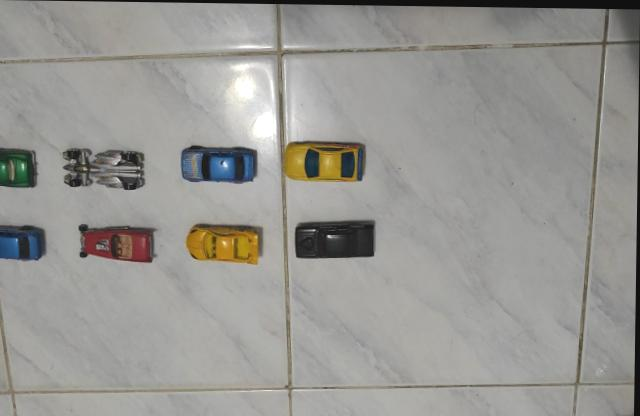01_FORD: (294, 217, 377, 257)
02_OZSOME: (283, 138, 367, 181)
03_V8: (77, 223, 158, 263)
04_MERZEDES: (180, 143, 259, 183), (0, 224, 48, 262)
05_DC121: (61, 145, 146, 191)
06_MASERATI: (0, 145, 38, 188)
07_RHLTURBO: (185, 222, 261, 264)
